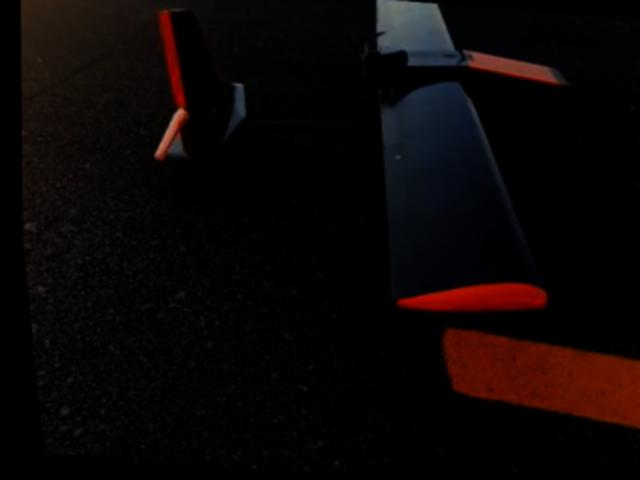uav: (104, 0, 613, 342)
